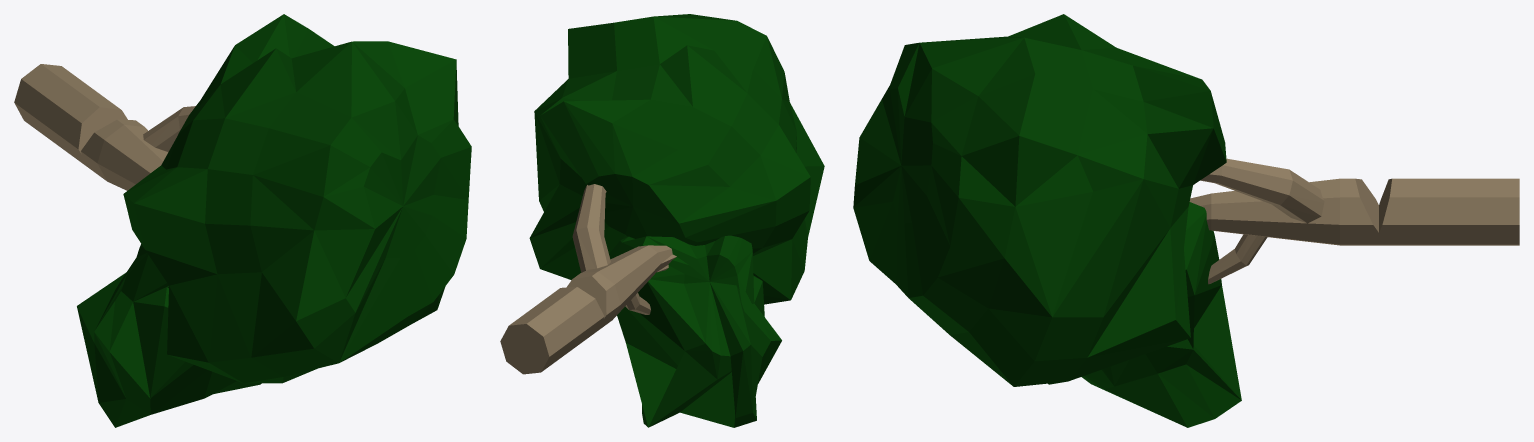
Rendered from cutable tree.fbx.
3 renders of one model, left to right at view 1: azimuth 30°, elevation 25°; view 2: azimuth 150°, elevation 25°; view 3: azimuth 270°, elevation 25°, orthographic. The views are drawn at different scales.
Visible parts, largest first — view 1: canopy, trunk; view 2: canopy, trunk; view 3: canopy, trunk.
Boxes of the visible parts, x1=… form: canopy: x1=77, y1=14, x2=471, y2=427; trunk: x1=14, y1=64, x2=195, y2=190; canopy: x1=529, y1=14, x2=824, y2=427; trunk: x1=500, y1=184, x2=676, y2=374; canopy: x1=853, y1=14, x2=1241, y2=427; trunk: x1=1189, y1=158, x2=1519, y2=284.
Bounding box in the file's own units: 2.49 × 2.92 × 4.17.
